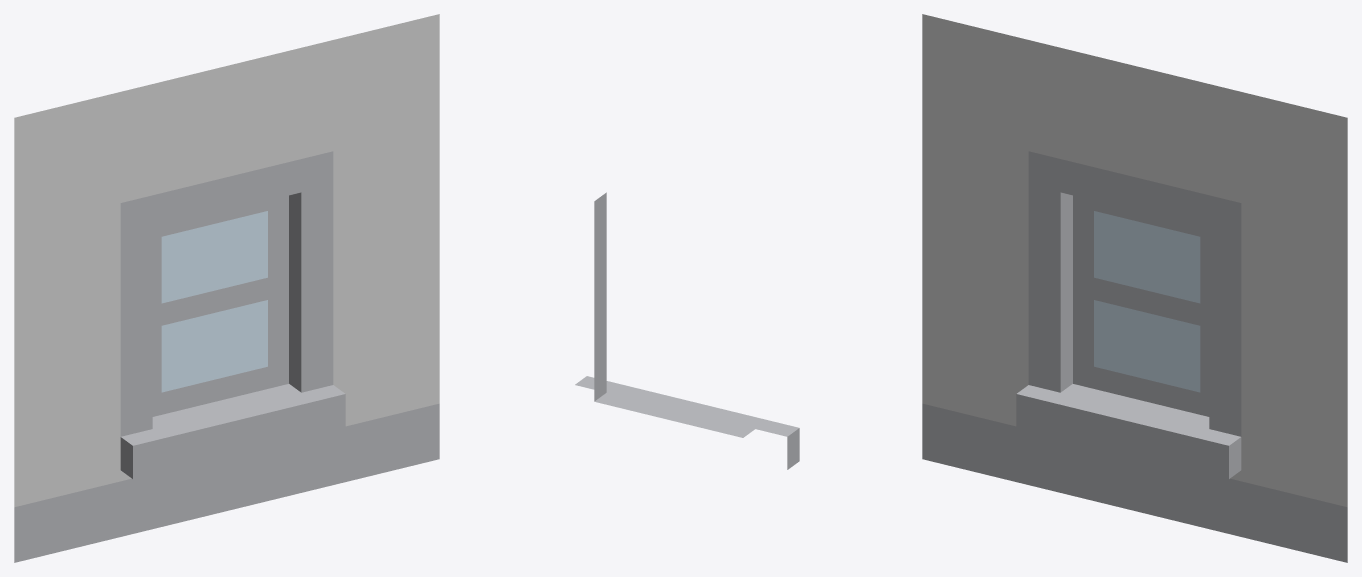
The model's file is wall_windowB.glb.
The picture shows the model from 3 angles, left to right: view 1: azimuth 30°, elevation 25°; view 2: azimuth 150°, elevation 25°; view 3: azimuth 330°, elevation 25°; orthographic projection.
Parts seen in each view (by area): view 1: wall_windowB; view 2: wall_windowB; view 3: wall_windowB.
Boxes of the visible parts, <box> form: wall_windowB: <box>14,14,439,562</box>; wall_windowB: <box>575,192,799,469</box>; wall_windowB: <box>922,14,1347,562</box>.
Size of the model in its own units: 0.4 by 0.4 by 0.04.
